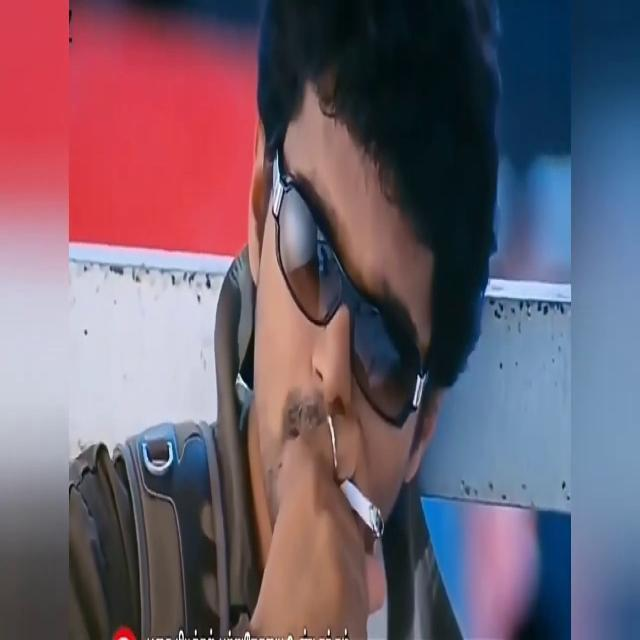smoking: (336, 492, 394, 512)
